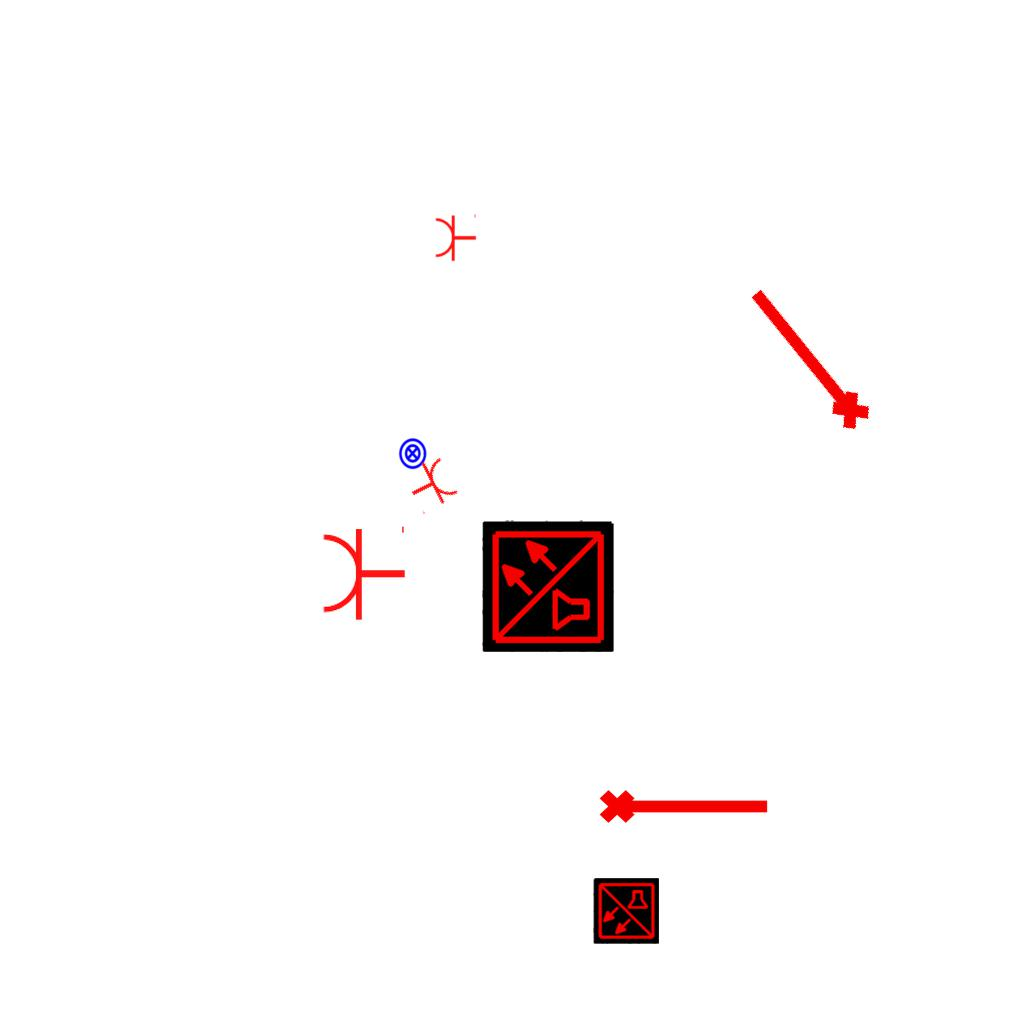ASR_Ansaugoeffnung: (732, 276, 880, 442), (597, 781, 773, 827)
OKW_Multisensormelder_(Kombination_optischer_Rauch-Kahlenmonoxid_Waerme-Melder): (482, 520, 614, 652), (593, 878, 659, 944)
Schukosteckdose_einfach: (320, 522, 407, 622), (400, 452, 463, 518), (434, 212, 477, 262)
Taster_beleuchtet: (396, 437, 429, 470)
